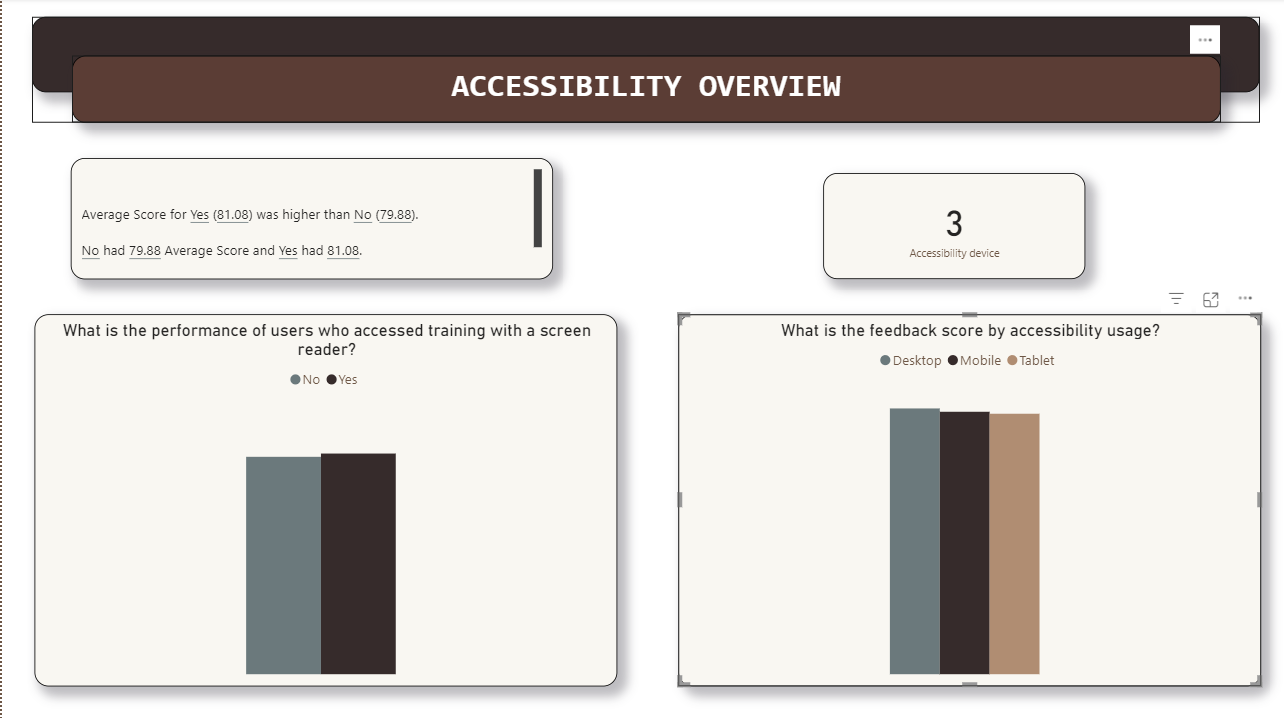

Layout of this report page (visuals, bound fields, positions):
{"tool":"powerbi","page":{"name":"Accessibility Overview","canvas":[1280,720],"ordinal":3},"visuals":[{"type":"clusteredColumnChart","title":"What is the performance of users who accessed training with a screen reader?","fields":{"Y":["Avg(public lms_data.score)"],"Series":["public lms_data.usedscreenreader"]},"box":[31.9,315.3,580.4,370.6],"z":0},{"type":"clusteredColumnChart","title":"What is the feedback score by accessibility usage?","fields":{"Y":["Avg(public lms_data.feedbackrating)"],"Series":["public lms_data.accessedviadevice"]},"box":[672.4,315.3,580.4,370.6],"z":1000},{"type":"card","fields":{"Values":["Count(public lms_data.accessedviadevice)"]},"box":[817.8,174.3,260.7,105.7],"z":2000},{"type":"textbox","box":[30.2,19.2,1221.3,75.5],"z":3000,"group":"g1"},{"type":"textbox","box":[68.6,197.6,480.3,82.3],"z":3000},{"type":"group","id":"g1","title":"Group 1","box":[30.2,19.2,1221.3,105.7],"z":4000},{"type":"textbox","box":[70,57.6,1143.1,67.2],"z":4000,"group":"g1"}]}

Visuals, with their boxes in screenshot pixels (x1, y1, x2, y2), scaled from the page's 1280x720 canvas onto the 1284x718 screenshot:
"What is the performance of users who accessed training with a screen reader?" clusteredColumnChart: bbox=(32, 314, 614, 684)
"What is the feedback score by accessibility usage?" clusteredColumnChart: bbox=(675, 314, 1257, 684)
card - Count(public lms_data.accessedviadevice): bbox=(820, 174, 1082, 279)
textbox: bbox=(30, 19, 1255, 94)
textbox: bbox=(69, 197, 551, 279)
"Group 1" group: bbox=(30, 19, 1255, 125)
textbox: bbox=(70, 57, 1217, 124)
